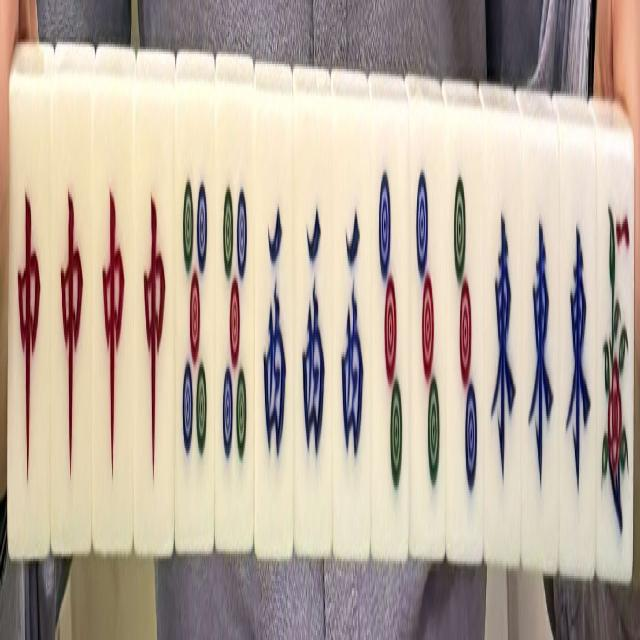east: (561, 128, 592, 566), (488, 123, 518, 552), (526, 130, 556, 552)
ff1: (599, 137, 633, 569)
t3: (374, 103, 405, 531), (450, 123, 480, 544), (412, 120, 442, 526)
t5: (178, 136, 212, 544), (218, 140, 251, 524)
west: (258, 103, 291, 533), (337, 105, 369, 530), (296, 103, 327, 535)
zhong: (8, 83, 43, 529), (96, 99, 131, 534), (54, 90, 88, 535), (136, 100, 170, 536)
